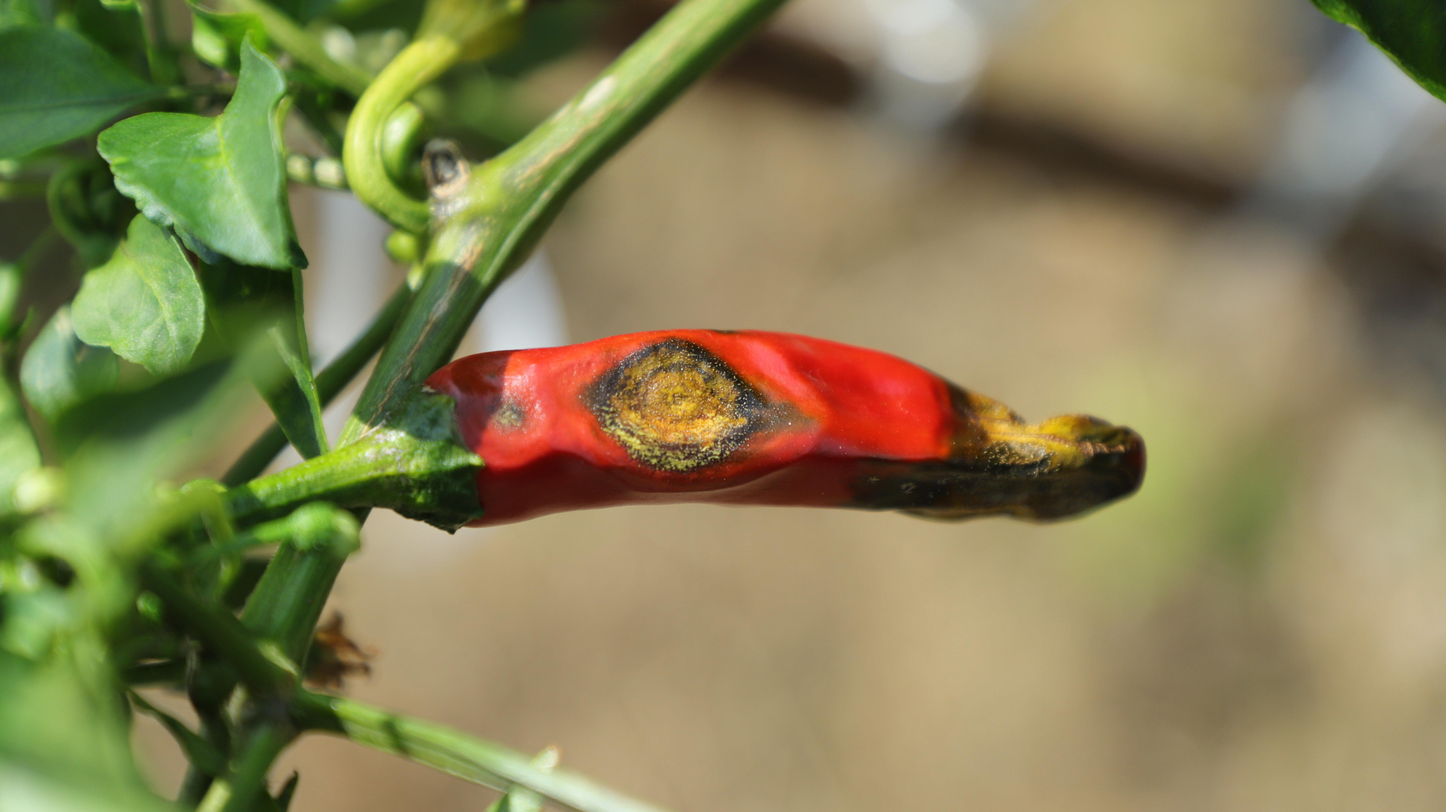Busuk Buah Antraknosa: (415, 325, 1150, 532)
